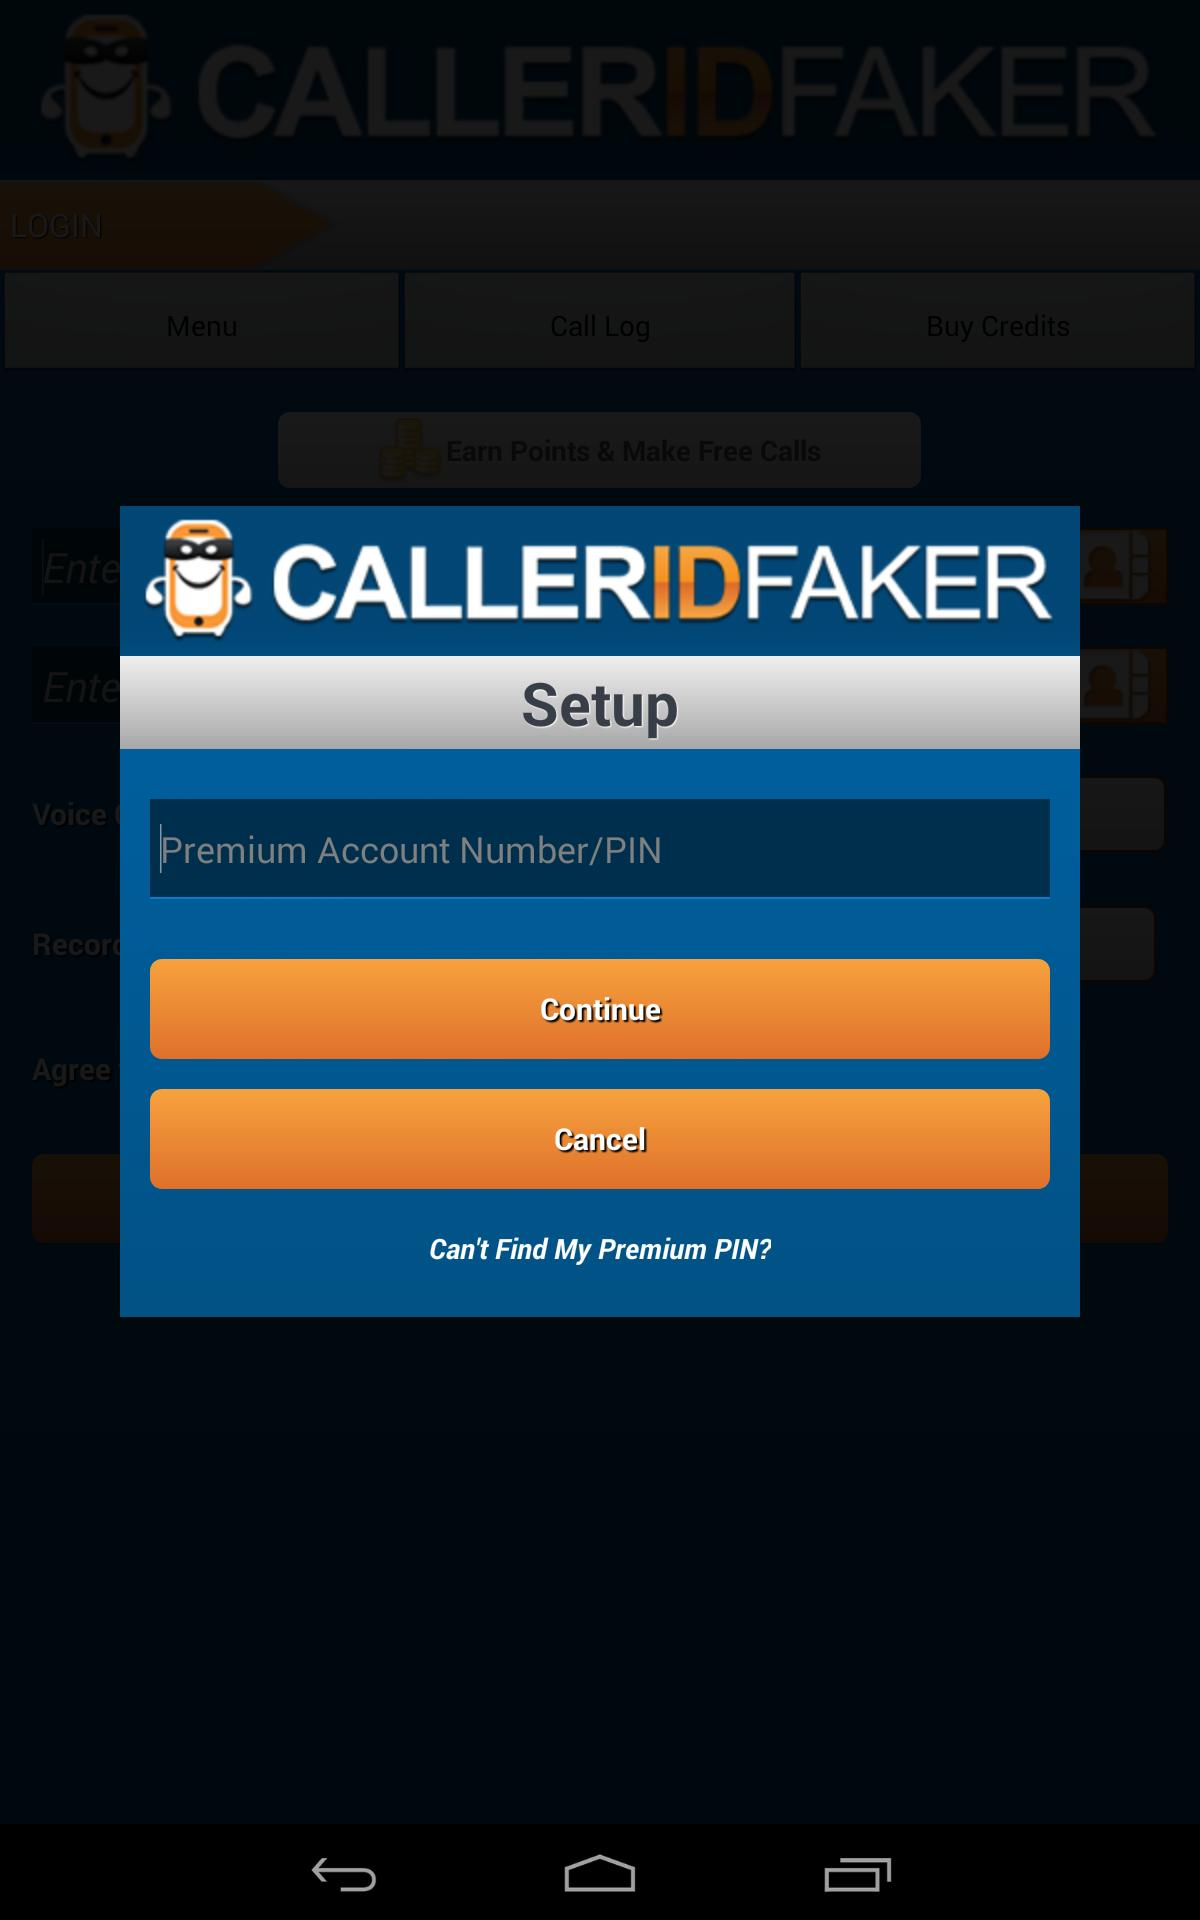android.widget.Button: (151, 959, 1051, 1059), (151, 1089, 1051, 1189)
android.widget.EditText: (151, 799, 1051, 898)
android.widget.FrameLayout: (120, 506, 1080, 1317)
android.widget.ImageView: (120, 516, 1080, 646)
android.widget.LinearLayout: (120, 506, 1080, 1317), (151, 780, 1051, 1287), (151, 799, 1051, 1189), (120, 506, 1080, 749), (120, 657, 1080, 749)
android.widget.ScrollView: (120, 749, 1080, 1317)
android.widget.TextView: (120, 657, 1080, 749), (429, 1189, 771, 1287)
